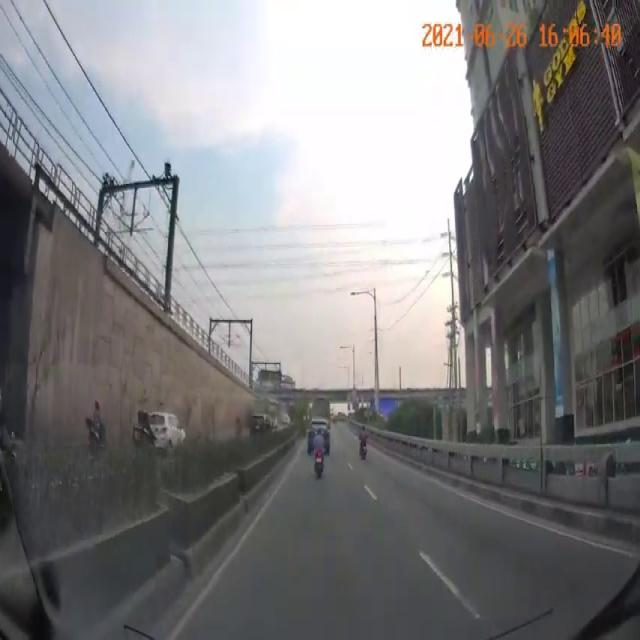car: (249, 411, 271, 441)
motorcycle: (85, 402, 111, 470), (134, 402, 158, 473), (355, 423, 373, 461), (314, 428, 324, 489)
